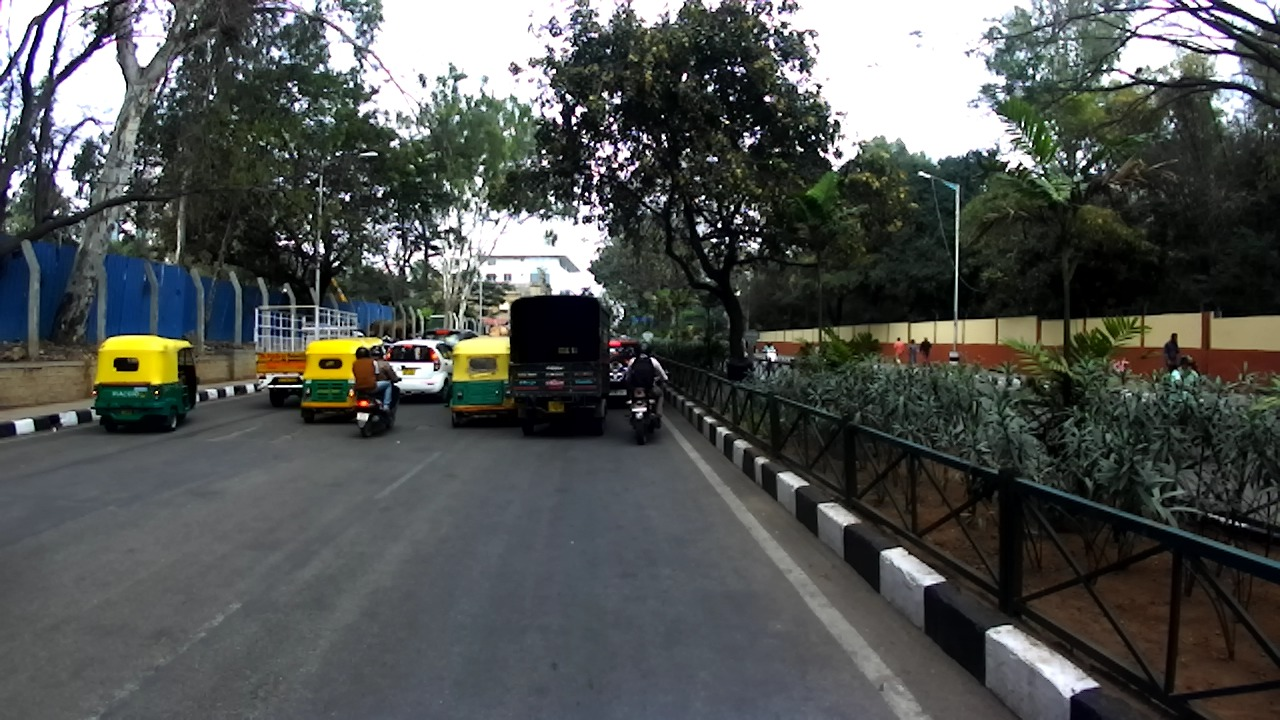autorickshaw: (90, 333, 200, 435), (299, 337, 383, 424), (452, 336, 518, 426)
car: (387, 338, 451, 402), (609, 337, 640, 408), (422, 328, 481, 349)
motorcycle: (621, 369, 667, 446), (354, 367, 403, 438), (764, 350, 778, 363)
person: (1162, 332, 1180, 375), (920, 335, 933, 365), (893, 337, 905, 364), (908, 338, 918, 366)
rider: (625, 340, 669, 430), (349, 346, 393, 419), (370, 346, 400, 408), (1173, 353, 1199, 386), (381, 330, 395, 345), (763, 341, 777, 353), (619, 331, 627, 338)
truck: (509, 294, 611, 437), (253, 305, 367, 407)
vehicle fallback: (484, 318, 511, 335)
